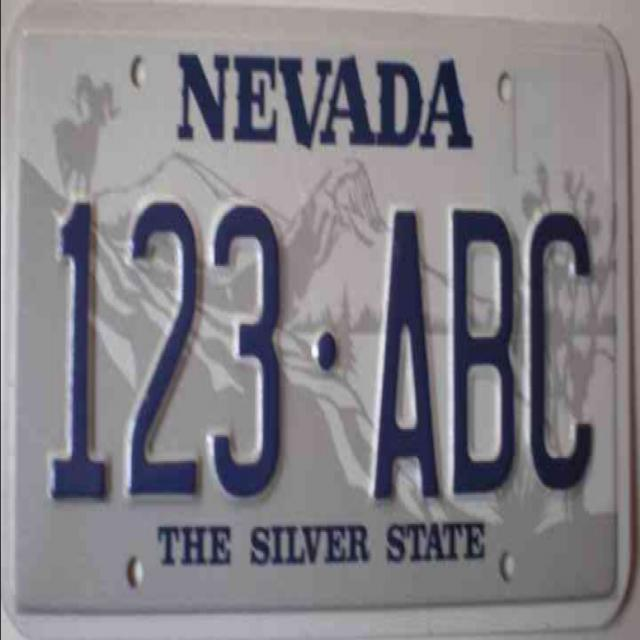1: (48, 176, 112, 518)
2: (122, 186, 205, 504)
3: (209, 192, 291, 500)
A: (367, 195, 441, 506)
B: (445, 197, 518, 496)
C: (522, 203, 598, 497)
